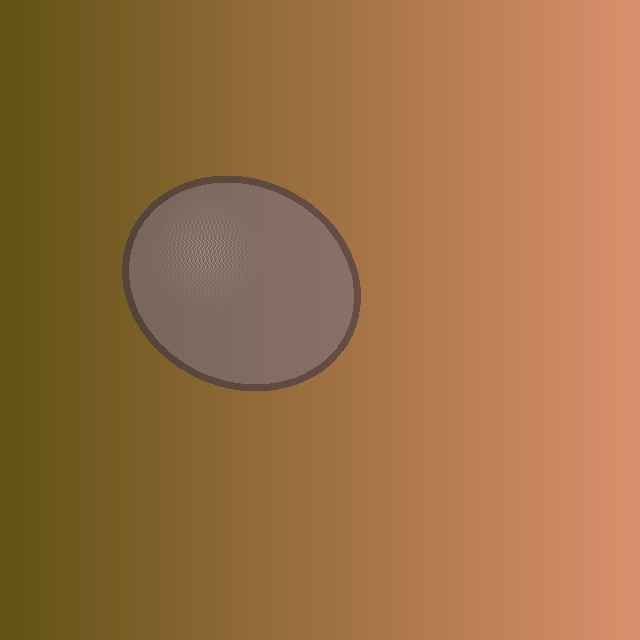lens: (126, 179, 356, 387)
